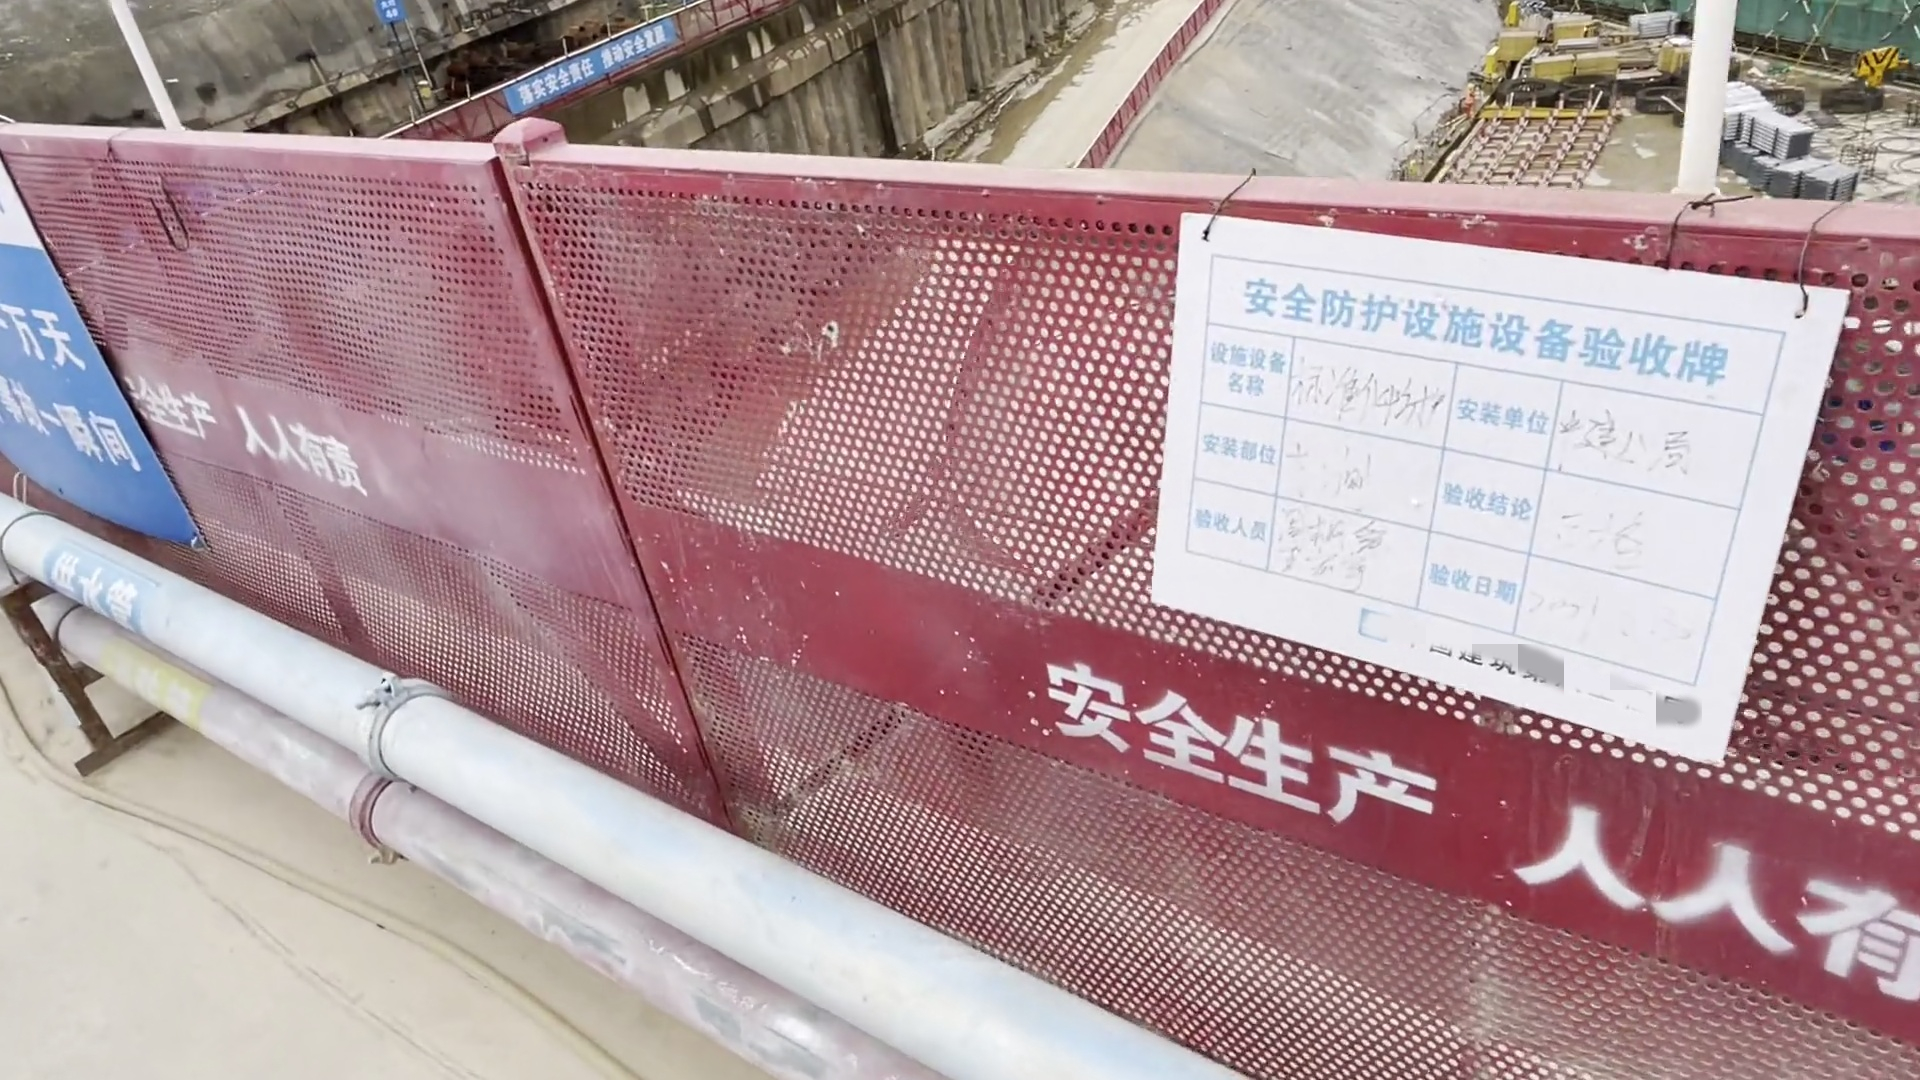fence: (61, 127, 1149, 857)
slogan: (1170, 207, 1830, 793), (1, 165, 222, 555), (489, 13, 688, 119)
